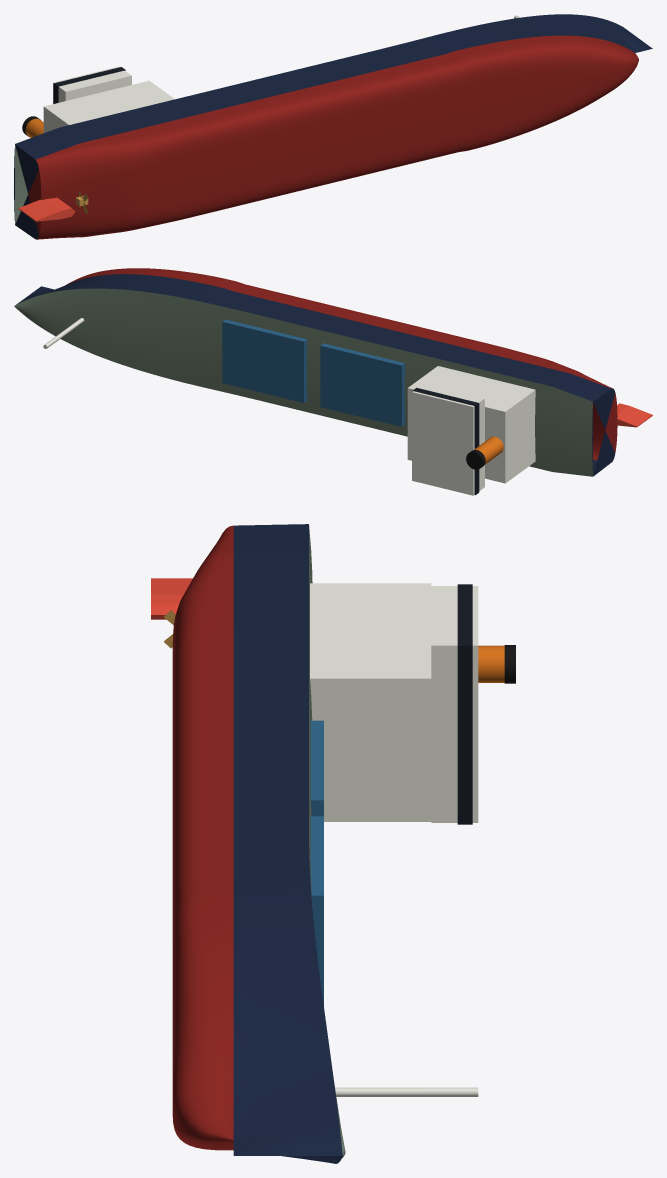
The picture shows the model from 3 angles, top to bottom: view 1: azimuth 30°, elevation 25°; view 2: azimuth 150°, elevation 25°; view 3: azimuth 270°, elevation 25°; orthographic projection. The views are drawn at different scales.
Visible parts, largest first — view 1: hull, superstructure, rudder; view 2: hull, superstructure, rudder; view 3: hull, superstructure, rudder.
Part boxes in pixels (x1=…): hull: x1=14, y1=14, x2=652, y2=239; superstructure: x1=22, y1=15, x2=519, y2=137; rudder: x1=18, y1=197, x2=75, y2=221; hull: x1=14, y1=268, x2=617, y2=476; superstructure: x1=43, y1=318, x2=535, y2=495; rudder: x1=616, y1=403, x2=652, y2=427; hull: x1=172, y1=524, x2=345, y2=1163; superstructure: x1=310, y1=583, x2=515, y2=1096; rudder: x1=151, y1=578, x2=192, y2=619.
Bounding box in the file's own units: 72.5 × 10.5 × 19.4.
